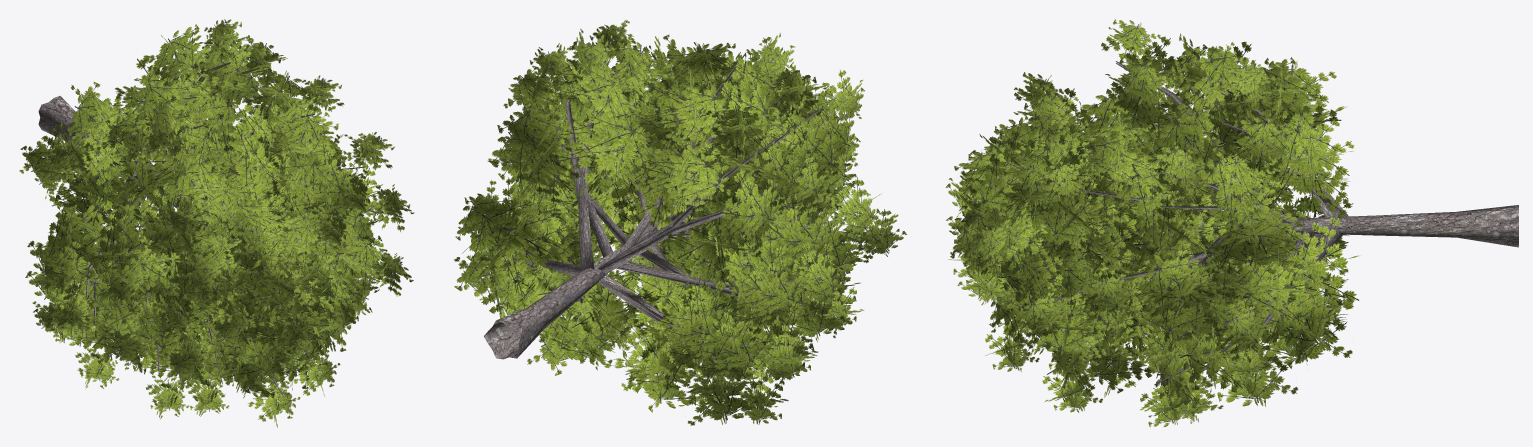
Rendered from test_tree.gltf.
3 views of the same model, side by side, from view 1: azimuth 30°, elevation 25°; view 2: azimuth 150°, elevation 25°; view 3: azimuth 270°, elevation 25° (orthographic). The views are drawn at different scales.
Visible parts, largest first — view 1: tree6_leaves_0, tree6_bark_0; view 2: tree6_leaves_0, tree6_bark_0; view 3: tree6_leaves_0, tree6_bark_0.
Boxes of the visible parts, x1,y1,x2,y2 form: tree6_leaves_0: (19, 19, 414, 427); tree6_bark_0: (38, 62, 381, 396); tree6_leaves_0: (454, 20, 906, 425); tree6_bark_0: (484, 45, 850, 376); tree6_leaves_0: (945, 19, 1359, 427); tree6_bark_0: (993, 61, 1518, 396).
Size of the model in its own units: 64.44 by 63.2 by 88.14.
Materials: 2 (2 with a texture image).
